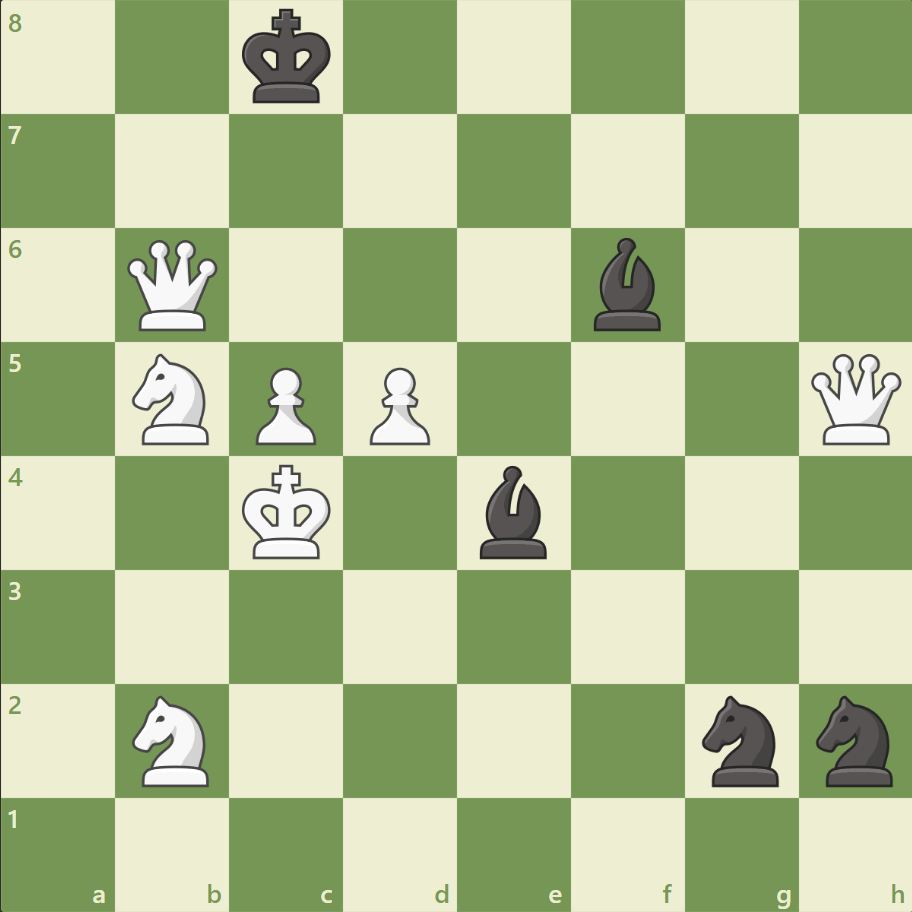K: (238, 458, 338, 566)
N: (124, 688, 222, 791), (124, 348, 222, 450)
P: (247, 359, 322, 450), (361, 359, 435, 450)
Q: (805, 349, 904, 449), (124, 236, 223, 335)
b: (585, 233, 669, 336), (471, 460, 555, 563)
k: (238, 4, 338, 112)
n: (692, 688, 789, 791), (806, 688, 903, 791)
